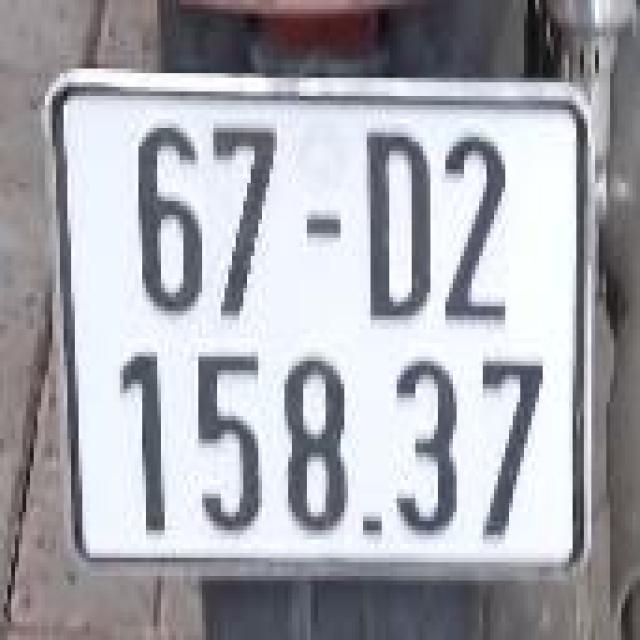1: (109, 343, 180, 548)
2: (442, 124, 524, 338)
3: (380, 350, 466, 551)
5: (185, 334, 275, 544)
6: (114, 110, 204, 324)
7: (468, 352, 554, 558), (210, 112, 284, 327)
8: (277, 348, 359, 540)
D: (342, 119, 432, 334)
